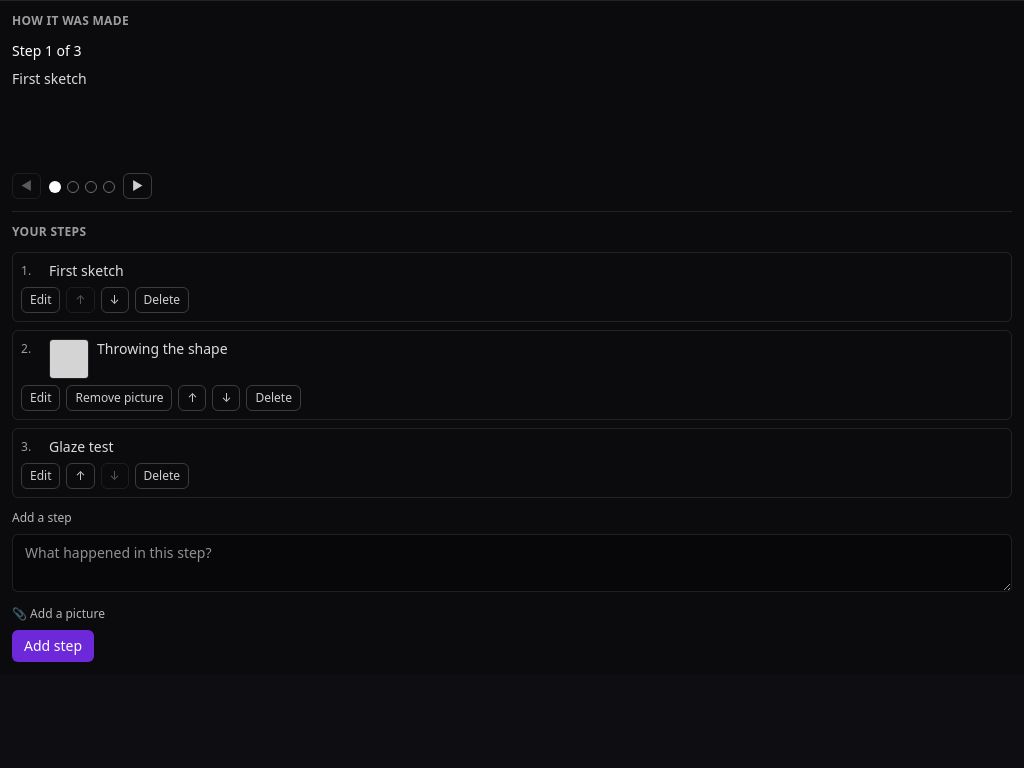
Test: ProcessTimeline: the owner's steps › puts a step in a new order
Click the button named "Move step 1 down" at {"x": 114, "y": 300}, box [100,287,128,313]
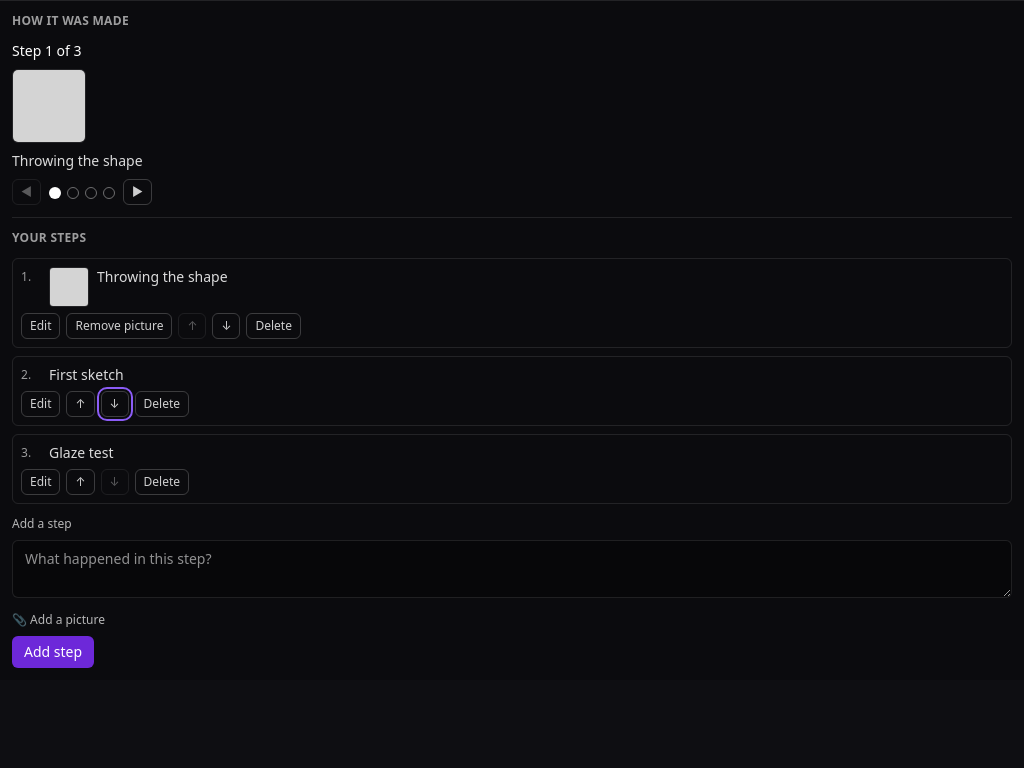
Check: the button named "Move step 3 down" is disabled, box [100,469,128,495]
Check: the button named "Move step 1 up" is disabled, box [178,313,206,339]
